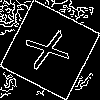X: (25, 25, 79, 71)
